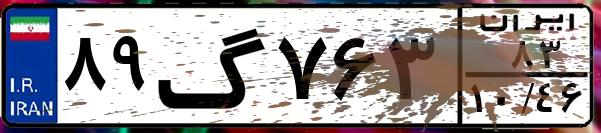0: (495, 70, 520, 125)
1: (470, 70, 495, 125)
3: (385, 28, 445, 110), (537, 27, 568, 80)
4: (535, 70, 560, 125)
6: (330, 28, 385, 110), (560, 70, 590, 125)
7: (270, 28, 330, 110)
8: (57, 26, 110, 100), (508, 27, 537, 80)
9: (110, 28, 156, 98)
گ: (156, 12, 270, 120)
